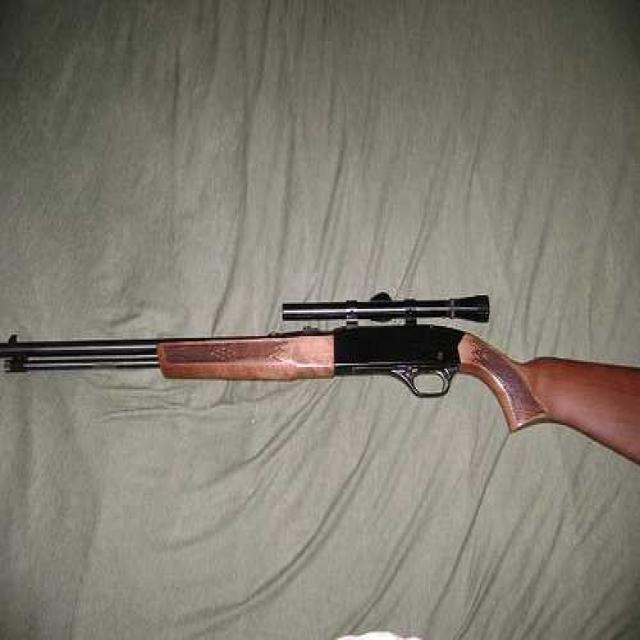heavyweapon: (2, 276, 640, 530)
